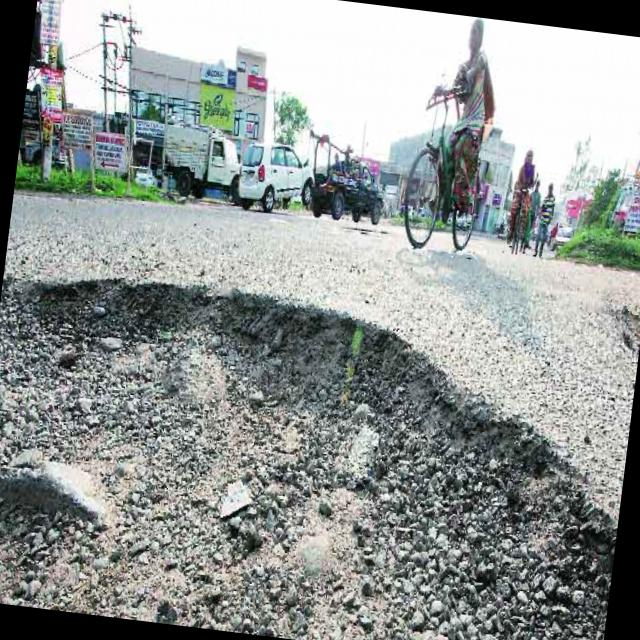Potholes: (0, 238, 640, 640)
